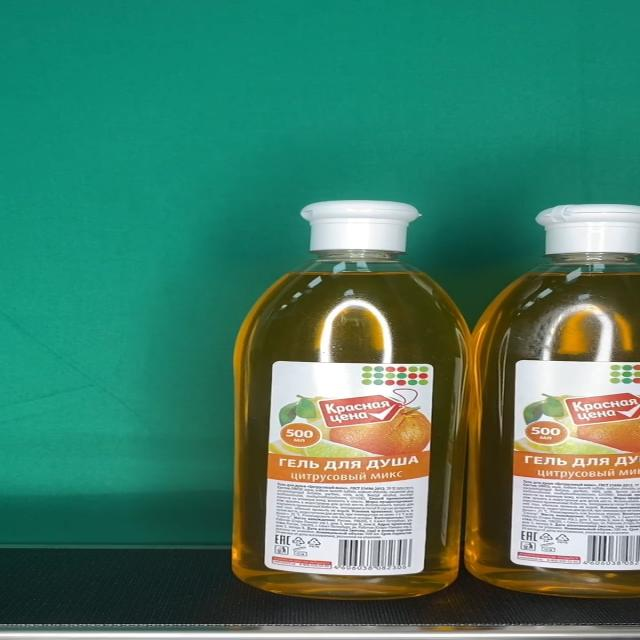Bottle: (232, 199, 469, 599)
Cap: (301, 200, 421, 251)
